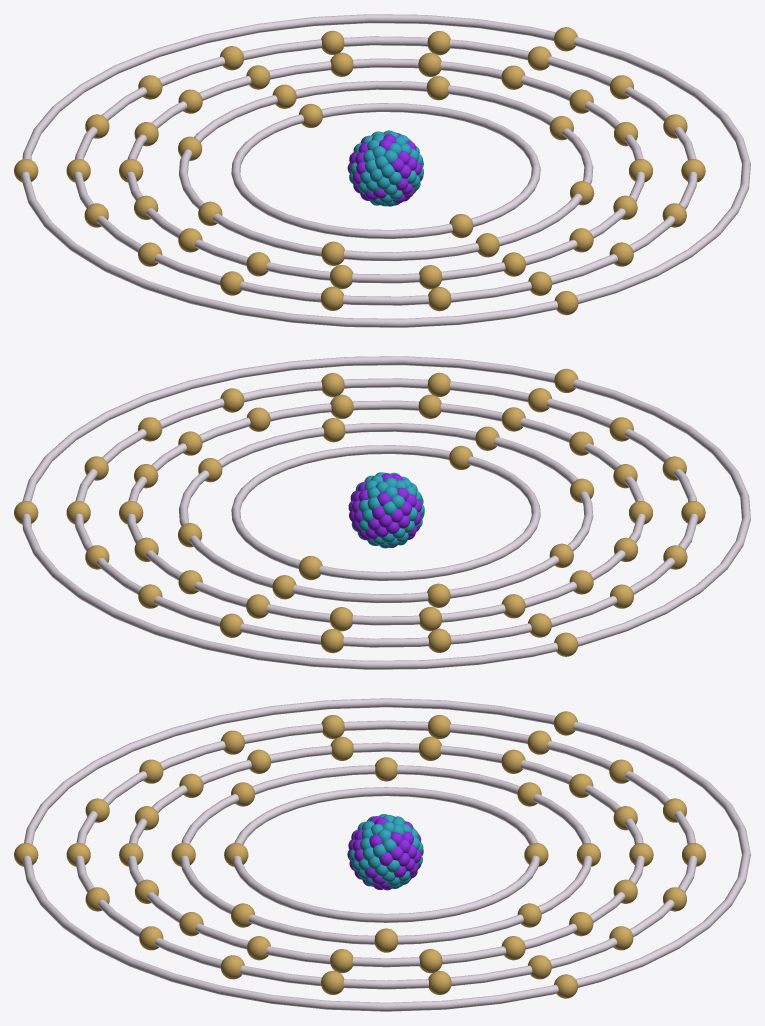
The model's file is indio.glb.
The picture shows the model from 3 angles, top to bottom: view 1: azimuth 30°, elevation 25°; view 2: azimuth 150°, elevation 25°; view 3: azimuth 270°, elevation 25°; orthographic projection.
Parts seen in each view (by area): view 1: Orbita_5, Orbita_4, Orbita_3, Orbita_2, Orbita_1, Nucleo_Completo; view 2: Orbita_5, Orbita_4, Orbita_3, Orbita_2, Orbita_1, Nucleo_Completo; view 3: Orbita_5, Orbita_4, Orbita_3, Orbita_2, Orbita_1, Nucleo_Completo.
Boxes of the visible parts, x1,y1,x2,y2 form: Orbita_5: [21, 14, 750, 327]; Orbita_4: [73, 36, 697, 305]; Orbita_3: [126, 58, 644, 283]; Orbita_2: [179, 80, 593, 261]; Orbita_1: [231, 103, 540, 238]; Nucleo_Completo: [347, 130, 423, 206]; Orbita_5: [22, 356, 750, 669]; Orbita_4: [74, 378, 698, 647]; Orbita_3: [127, 400, 645, 625]; Orbita_2: [179, 422, 593, 603]; Orbita_1: [231, 445, 540, 580]; Nucleo_Completo: [348, 472, 424, 548]; Orbita_5: [22, 698, 750, 1011]; Orbita_4: [75, 720, 697, 989]; Orbita_3: [127, 742, 644, 967]; Orbita_2: [180, 765, 592, 944]; Orbita_1: [232, 787, 539, 922]; Nucleo_Completo: [347, 814, 423, 890].
Bounding box in the file's own units: 4.86 × 0.5085 × 4.91.
